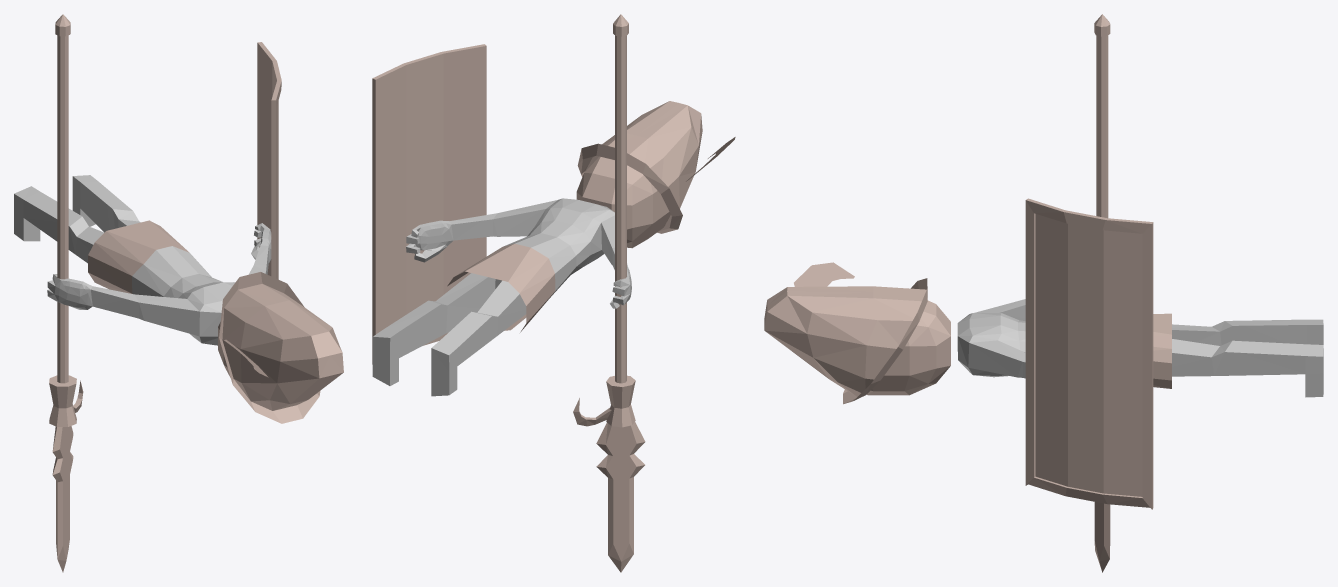
Rendered from soldier.obj.
3 renders of one model, left to right at view 1: azimuth 30°, elevation 25°; view 2: azimuth 150°, elevation 25°; view 3: azimuth 270°, elevation 25°, orthographic.
Parts seen in each view (by area): view 1: Cube.000; view 2: Cube.000; view 3: Cube.000.
Boxes of the visible parts, left/top/right/bottom form: Cube.000: left=14, top=14, right=343, bottom=572; Cube.000: left=372, top=14, right=735, bottom=572; Cube.000: left=764, top=14, right=1323, bottom=572.
Bounding box in the file's own units: 5.87 × 13 × 11.79.
